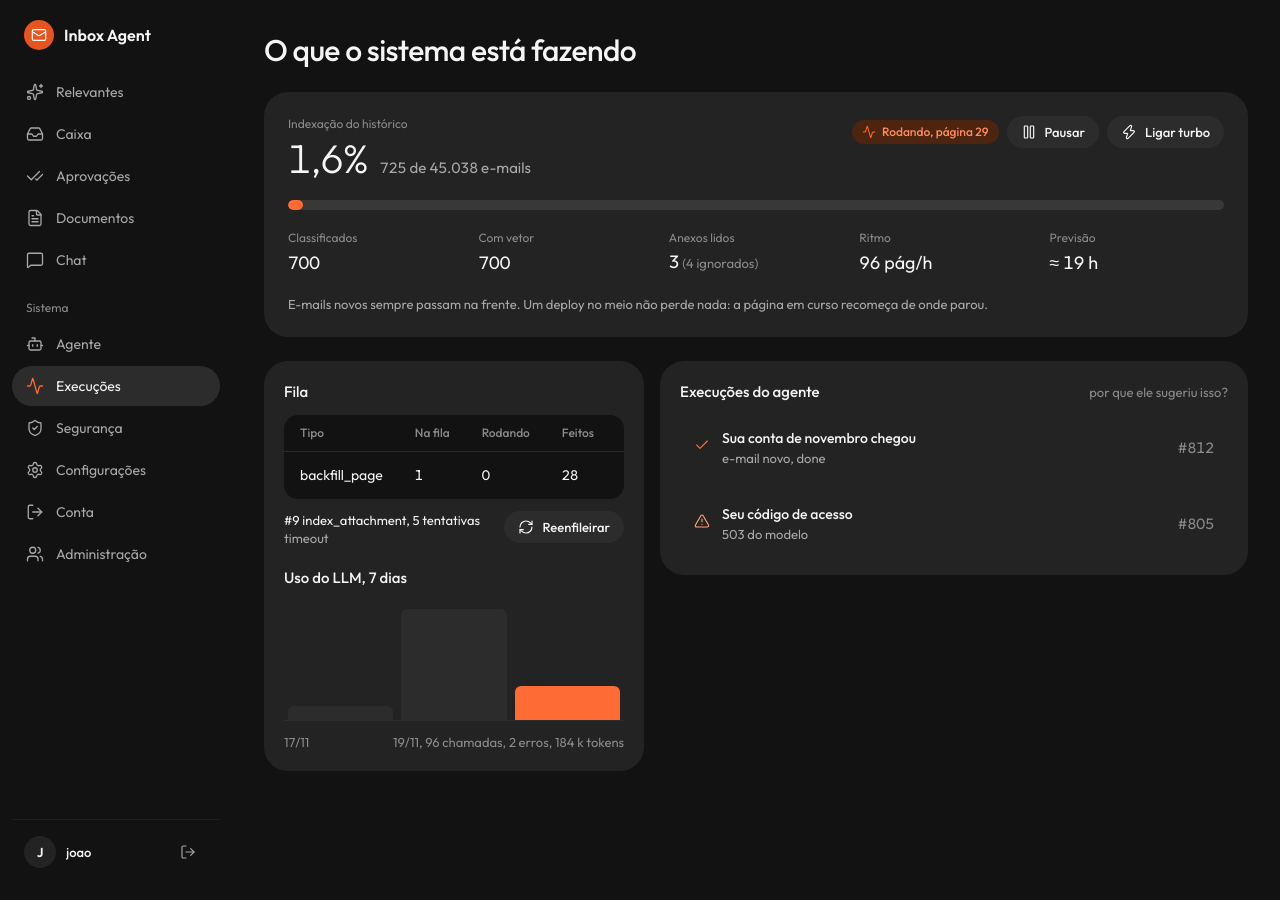
it: pause_then_resume_from_the_progress_card
Click the button "Pausar".
click(1053, 132)  # box [1006,116,1099,148]
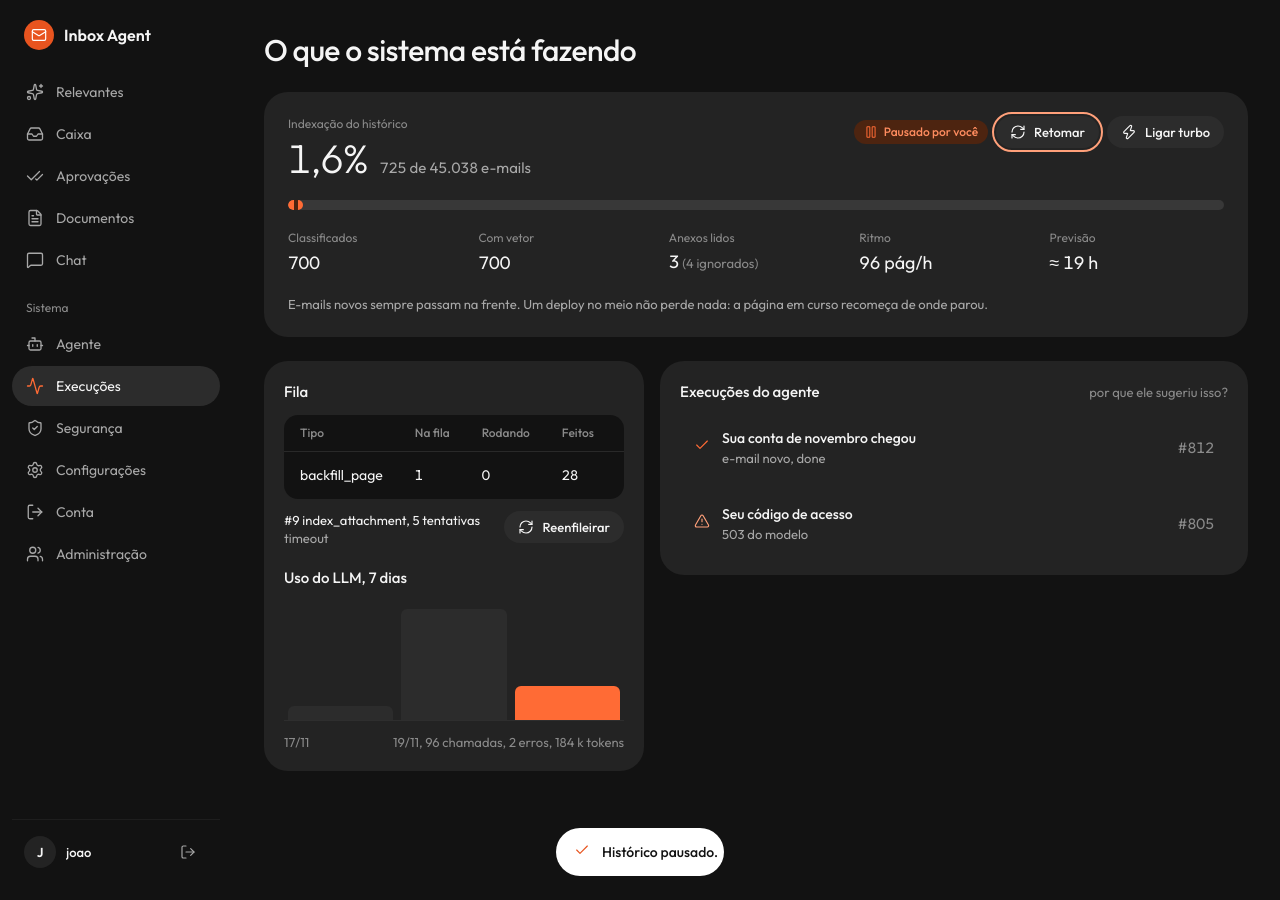
Check: the text "Pausado por você" is shown, box [854,120,988,144]
Click the button "Retomar".
click(1048, 132)  # box [996,116,1099,148]
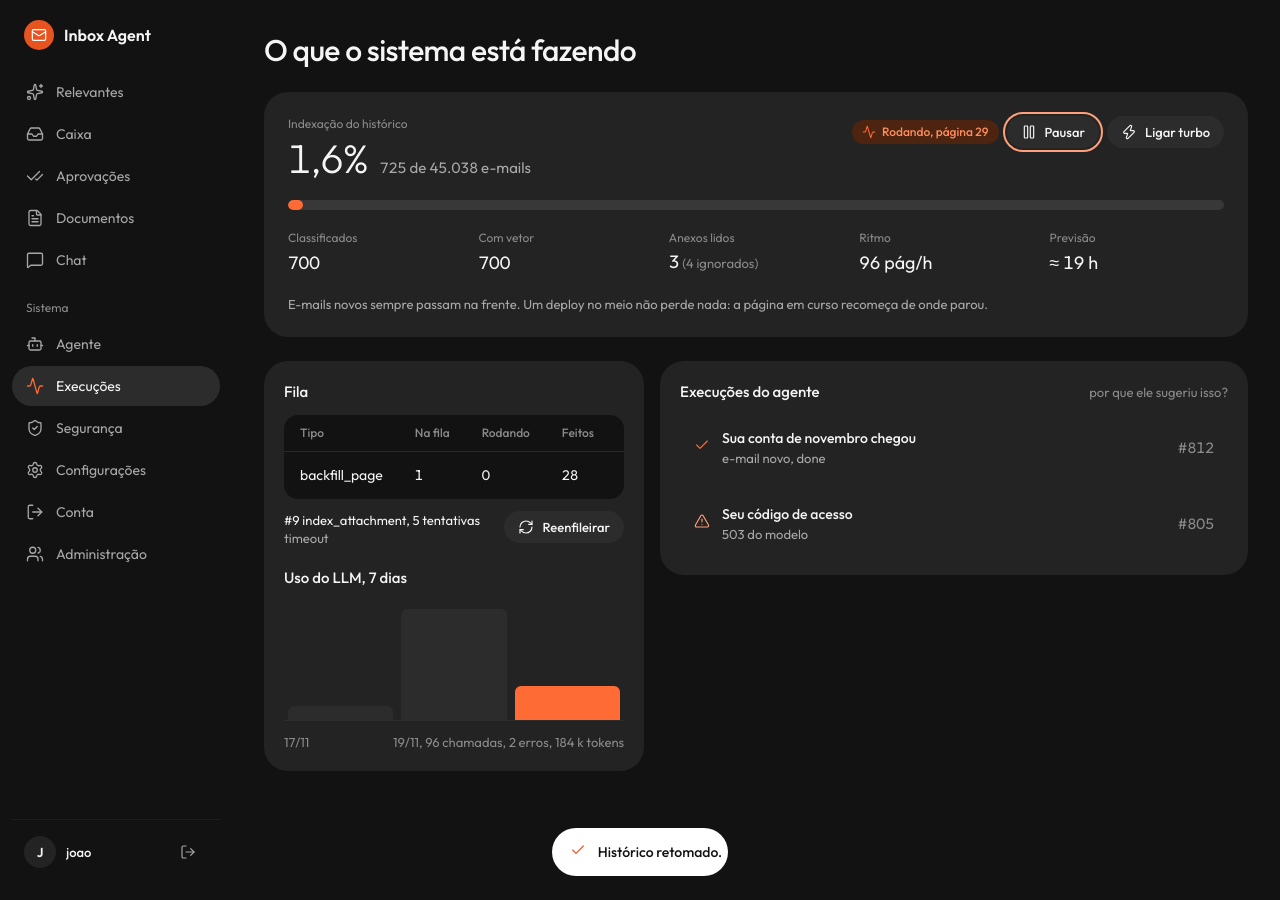
Check: the text "Rodando, página 29" is shown, box [852,120,999,144]
